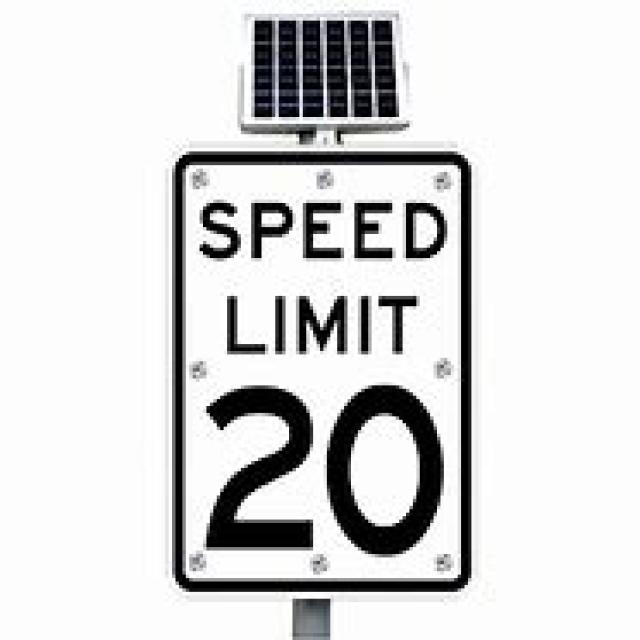speedLimit20: (167, 146, 480, 594)
